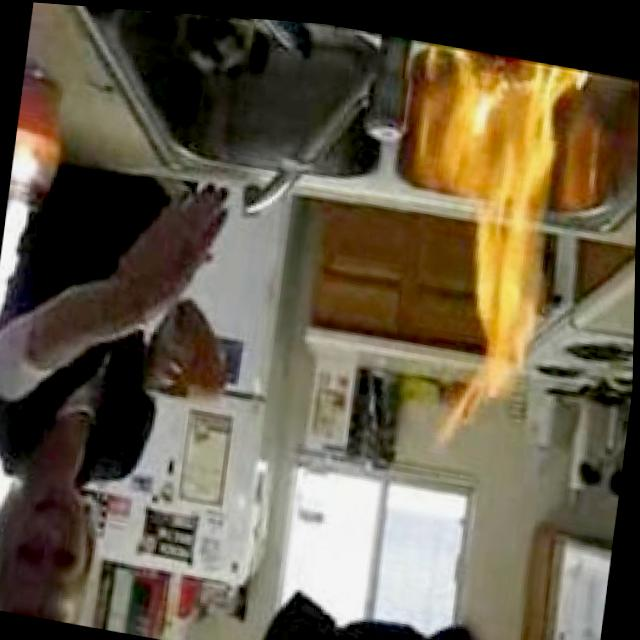helmet: (442, 42, 576, 393), (406, 35, 576, 214)
